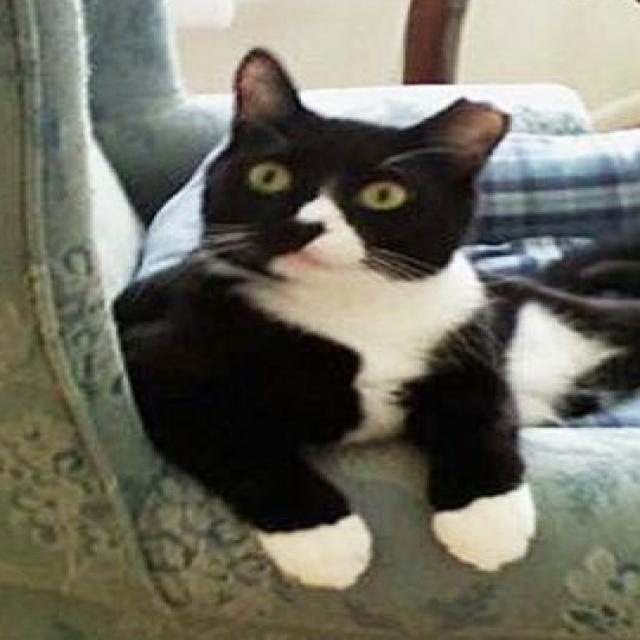Tuxedo: (114, 39, 545, 594)
